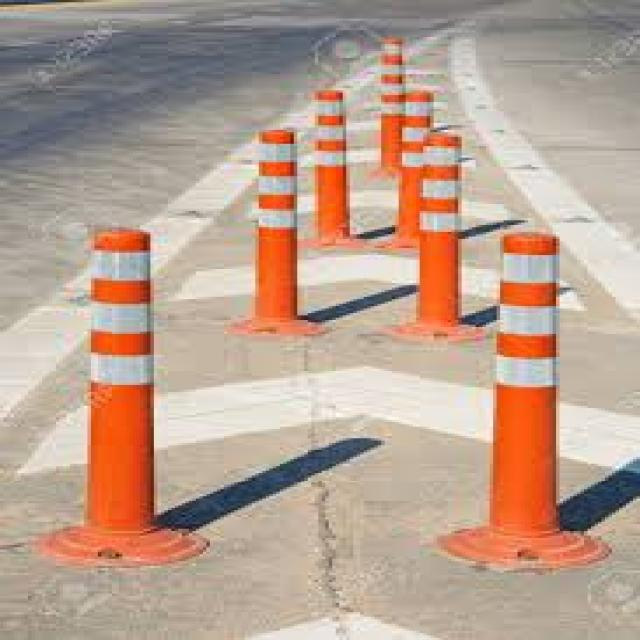bollard: (42, 218, 210, 584), (462, 224, 620, 575), (240, 116, 327, 345), (413, 133, 491, 350), (305, 76, 374, 255), (396, 83, 454, 259), (373, 26, 429, 184)
